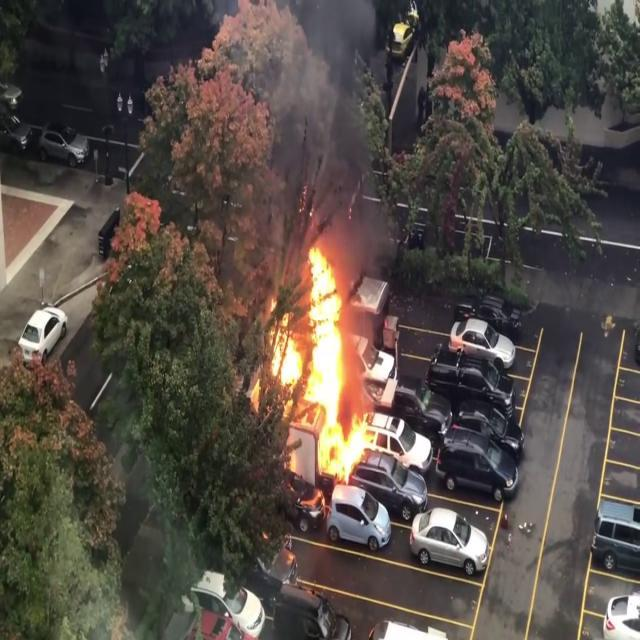Fire: (253, 240, 387, 496)
Smoke: (304, 0, 380, 223)
